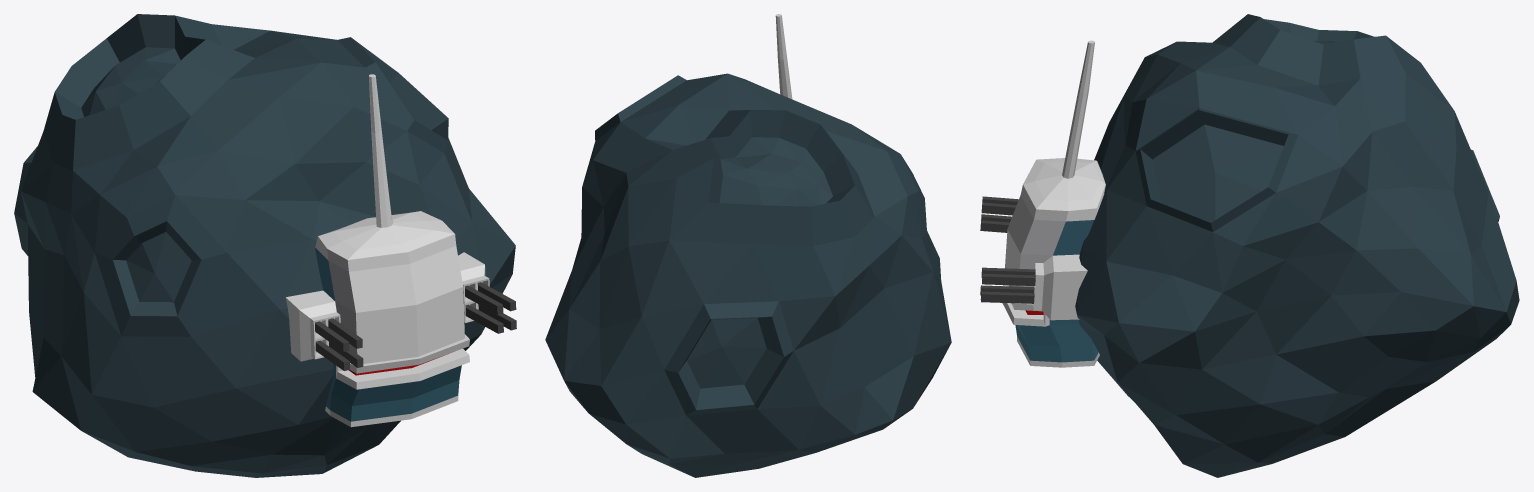
Rendered from turret3.fbx.
3 views of the same model, side by side, from view 1: azimuth 30°, elevation 25°; view 2: azimuth 150°, elevation 25°; view 3: azimuth 270°, elevation 25° (orthographic). The views are drawn at different scales.
Parts seen in each view (by area): view 1: Icosphere; view 2: Icosphere; view 3: Icosphere.
Part boxes in pixels (x1,y1,x2,y2): Icosphere: (14, 14, 516, 477); Icosphere: (545, 14, 951, 477); Icosphere: (980, 14, 1519, 477).
Bounding box in the file's own units: 9.89 × 11.91 × 10.44.
